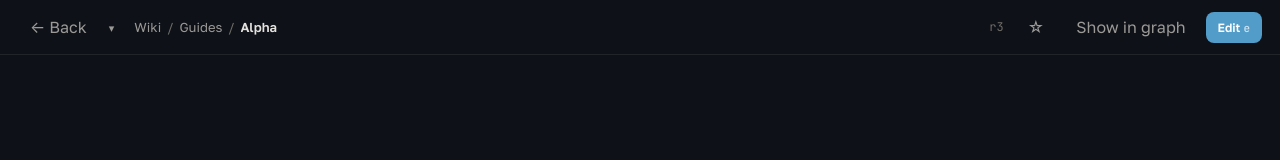
Test case: WikiToolbar › goes back and lists history newest first
Click the button titled "History": x=112, y=27 x1=97 y1=14 x2=126 y2=40
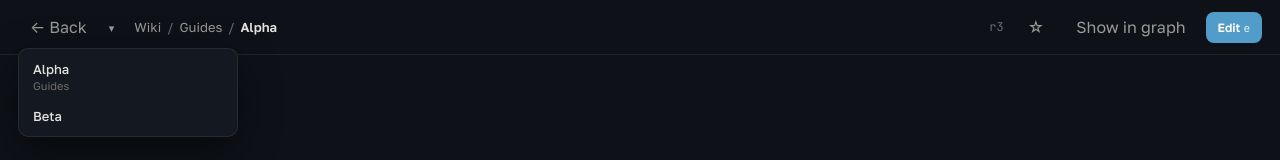
Click the menu item "Beta": x=128, y=116 x1=23 y1=100 x2=233 y2=132
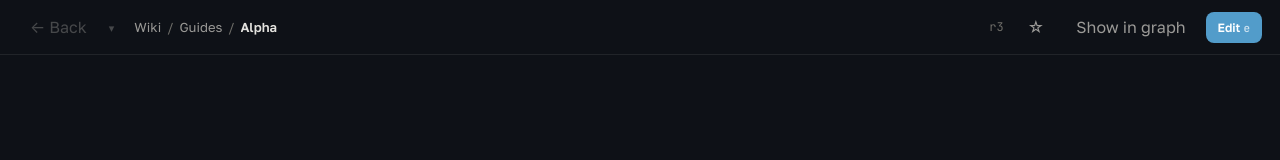
Check: the menu is gone
